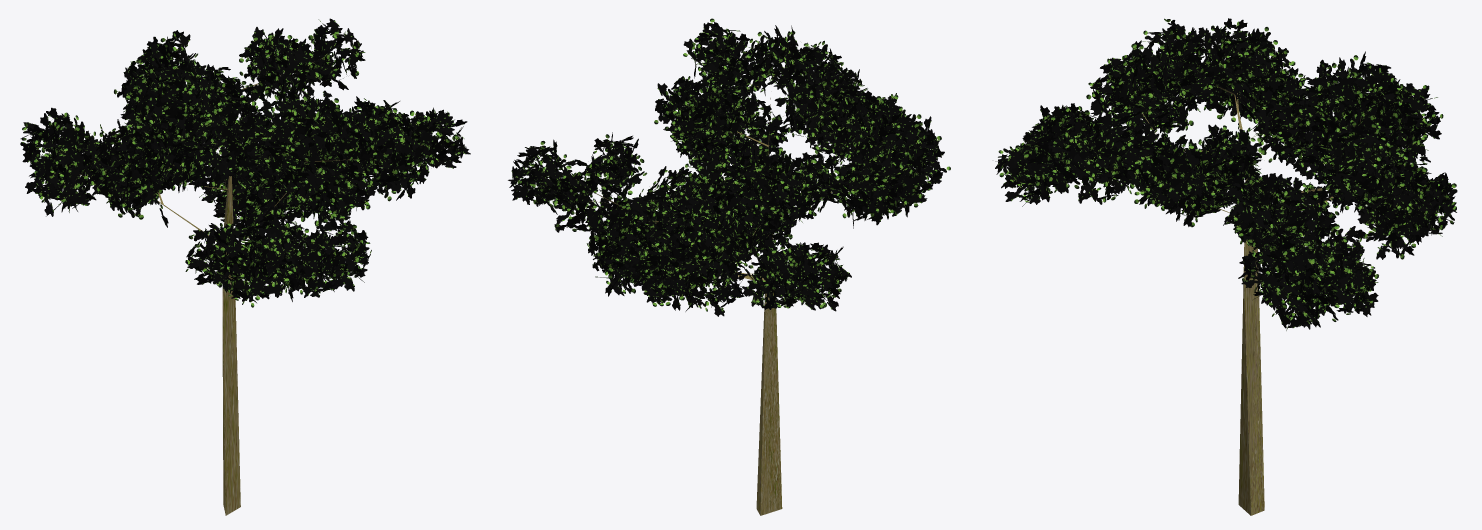
Rendered from pine_open_v01_LOD1.fbx.
The picture shows the model from 3 angles, left to right: view 1: azimuth 30°, elevation 25°; view 2: azimuth 150°, elevation 25°; view 3: azimuth 270°, elevation 25°; orthographic projection. The views are drawn at different scales.
Parts seen in each view (by area): view 1: pine_open_v01_LOD1; view 2: pine_open_v01_LOD1; view 3: pine_open_v01_LOD1.
Boxes of the visible parts, x1,y1,x2,y2 form: pine_open_v01_LOD1: [20, 18, 470, 515]; pine_open_v01_LOD1: [508, 18, 950, 515]; pine_open_v01_LOD1: [995, 18, 1457, 515].
Size of the model in its own units: 1311 by 1513 by 1633.
Materials: 2 (2 with a texture image).
